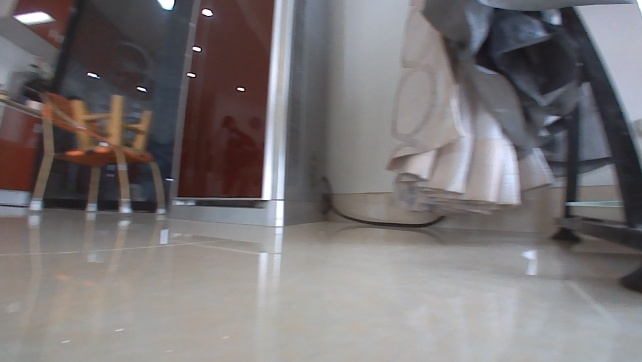wire: (328, 203, 447, 231)
